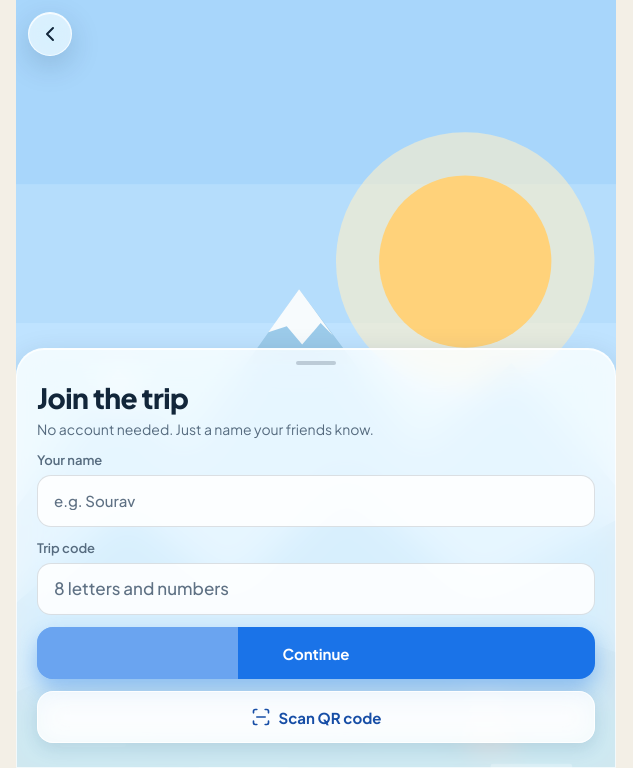
Test: Join screen › takes a typed code in any case, with spaces
This screenshot has width=633, height=768.
Type "k7qx 2p9t" into the field labelled "Trip code" at (316, 589), box top-left (37, 563), bottom-right (595, 615)
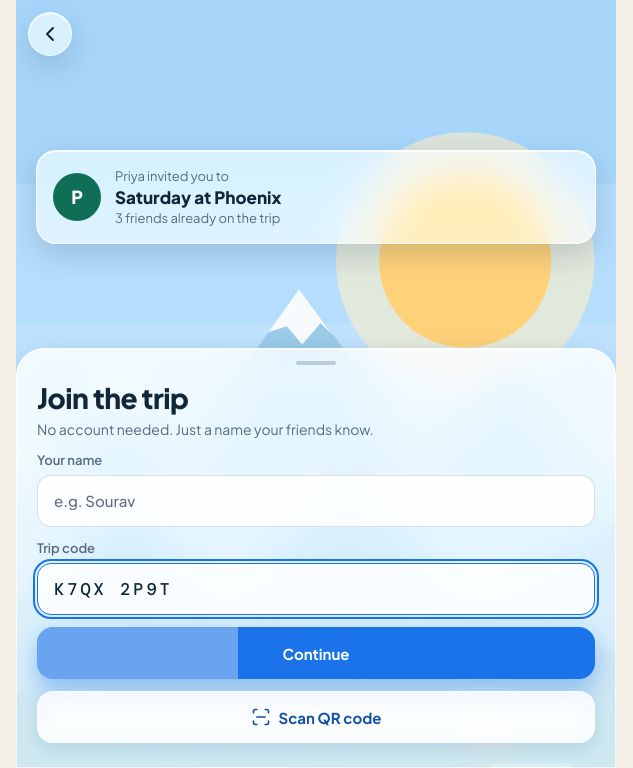
Now the text "Saturday at Phoenix" is shown, box top-left (115, 185), bottom-right (281, 209)
